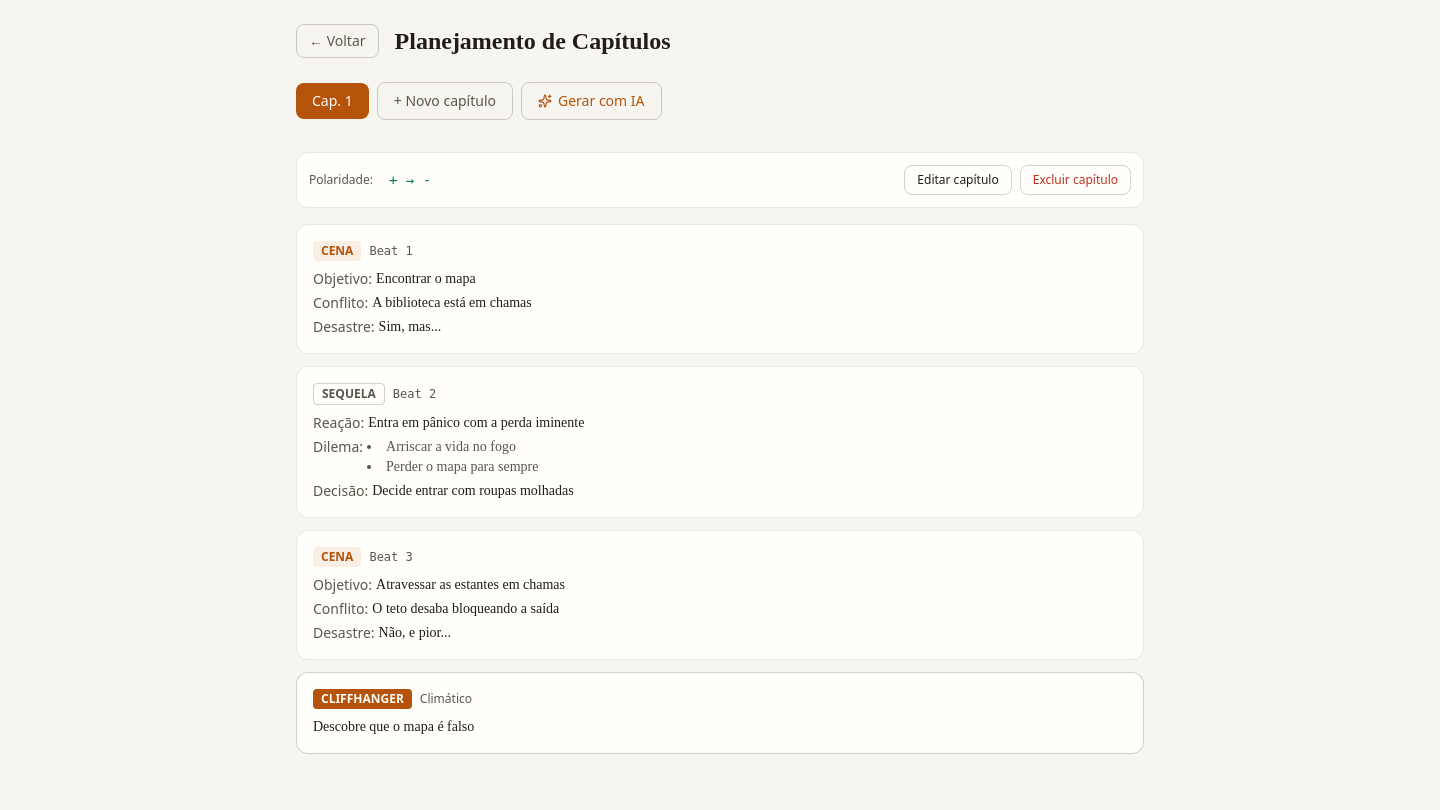
Scenario: ChaptersPage › exclui capítulo após confirmação no ConfirmDialog
Click the button "Excluir capítulo": (1075, 180) x1=1020 y1=165 x2=1131 y2=195
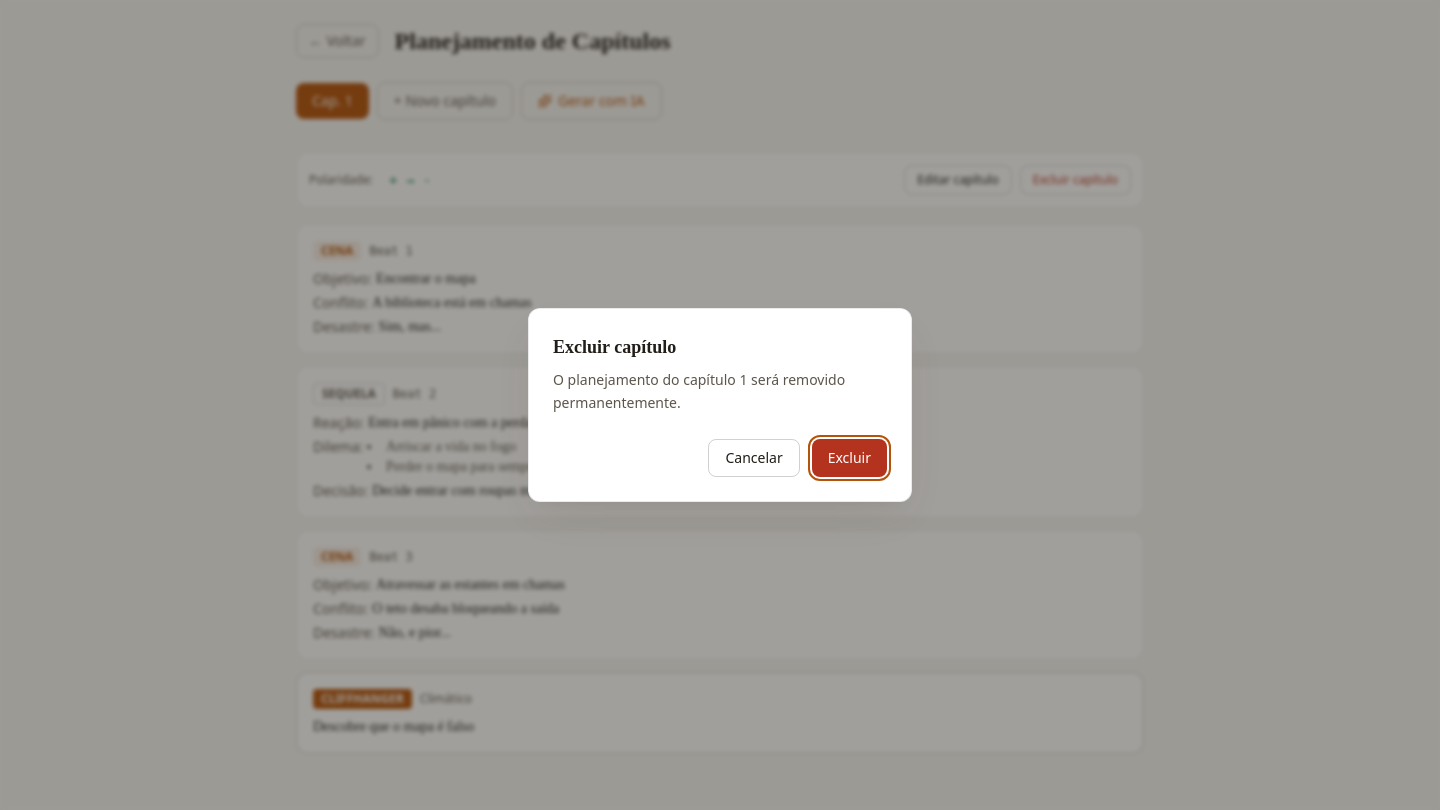
Expected: the dialog is shown, x1=528 y1=308 x2=912 y2=502
Click the button "Excluir": (849, 458) x1=812 y1=439 x2=887 y2=477
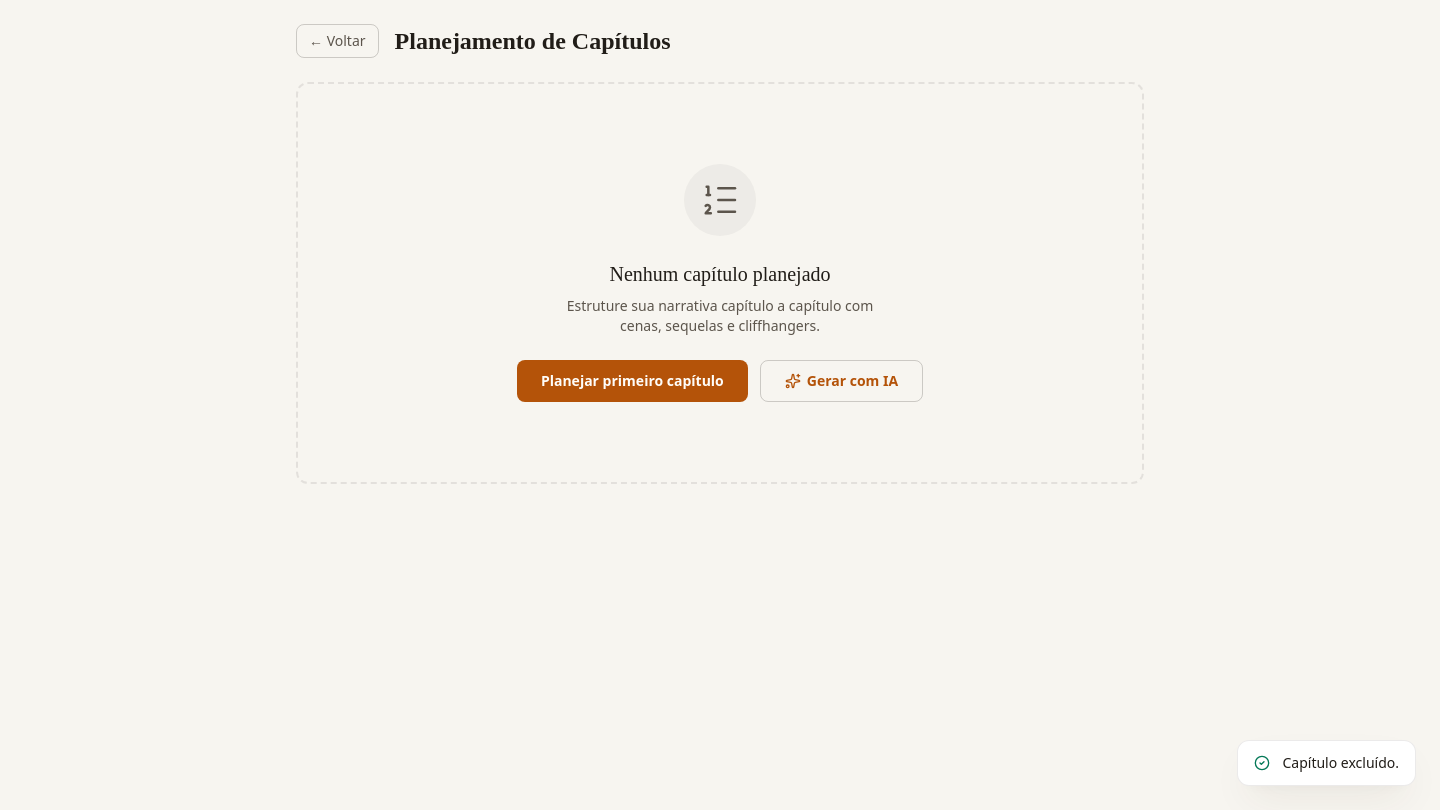
Expected: the heading "Nenhum capítulo planejado" is shown, x1=610 y1=263 x2=830 y2=285
